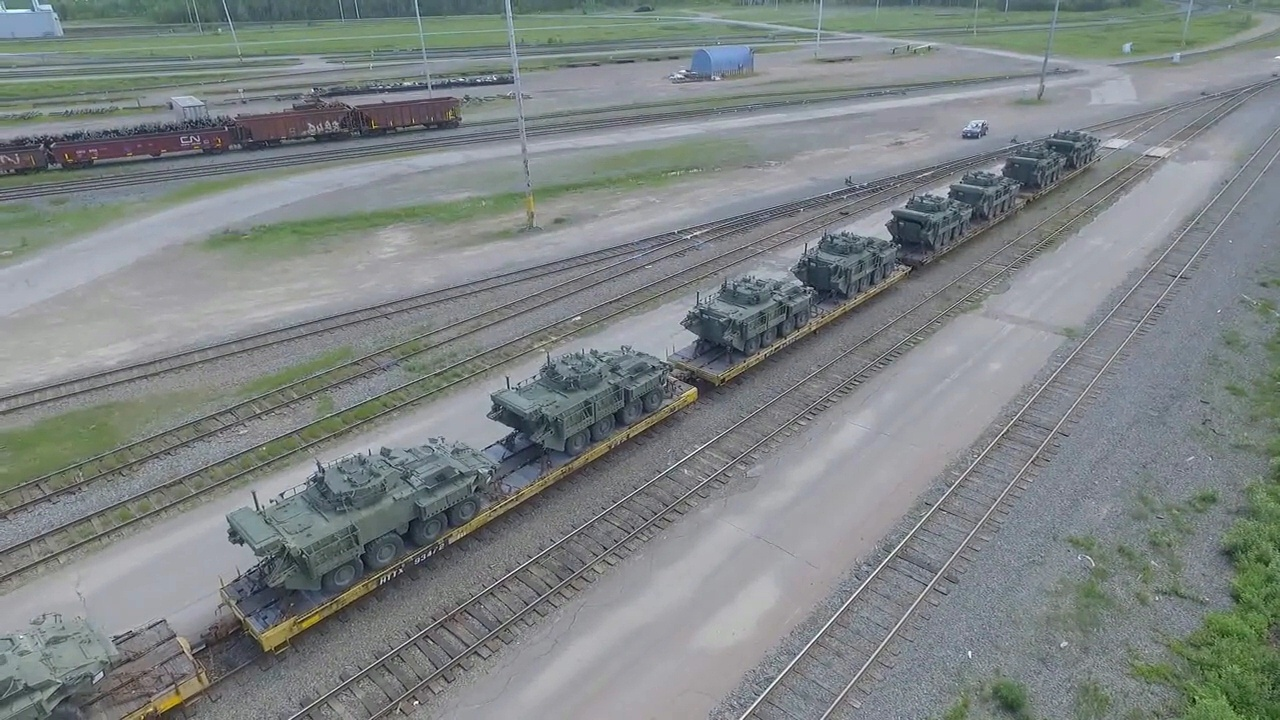araba: (961, 117, 990, 141)
tank: (225, 428, 502, 593), (487, 340, 681, 455), (1, 604, 118, 714), (681, 267, 816, 356), (799, 227, 897, 299), (888, 188, 973, 250), (951, 167, 1023, 217), (1008, 141, 1064, 192), (1048, 130, 1101, 164)
